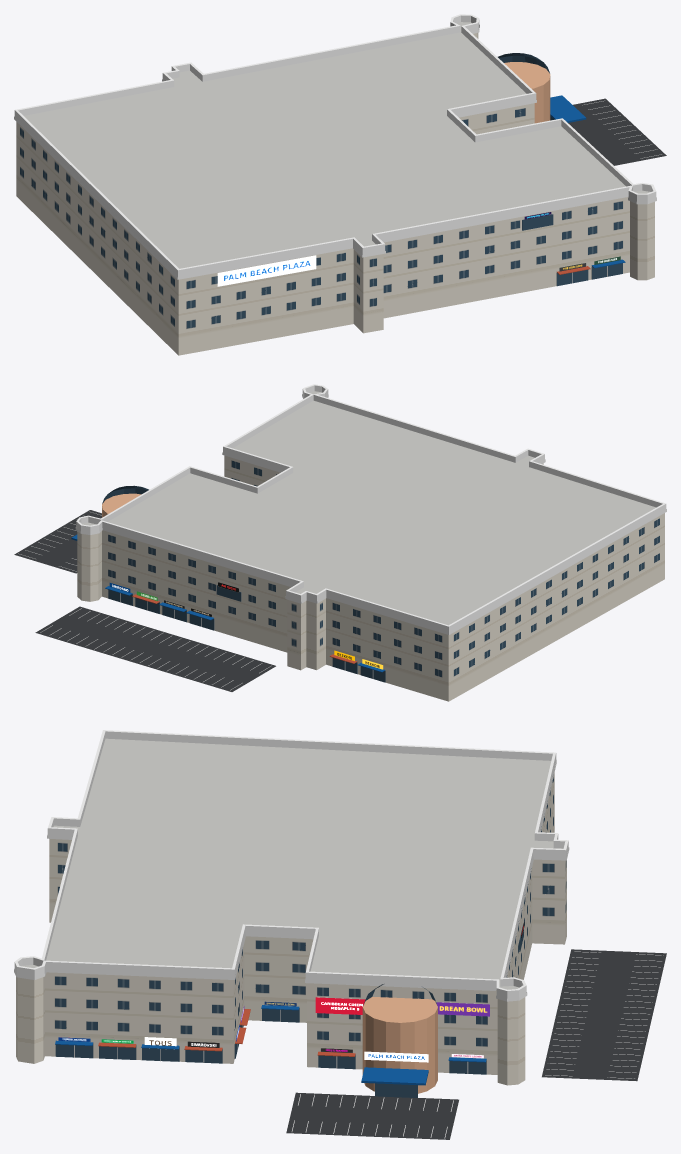
File: pbplaza.glb
3 renders of one model, top to bottom at view 1: azimuth 30°, elevation 25°; view 2: azimuth 150°, elevation 25°; view 3: azimuth 270°, elevation 25°, orthographic. The views are drawn at different scales.
Visible parts, largest first — view 1: pbplaza_lod0; view 2: pbplaza_lod0; view 3: pbplaza_lod0.
Part boxes in pixels (x1,y1,x2,y2): pbplaza_lod0: [14, 14, 666, 355]; pbplaza_lod0: [14, 384, 666, 701]; pbplaza_lod0: [14, 730, 666, 1139].
Size of what is drawn, in the model's own units: 139 by 19.51 by 122.
12 materials, 3 textured.
